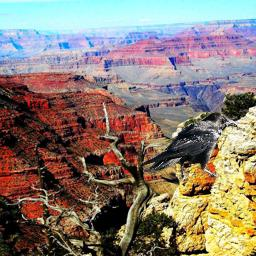Crow: (139, 111, 238, 183)
